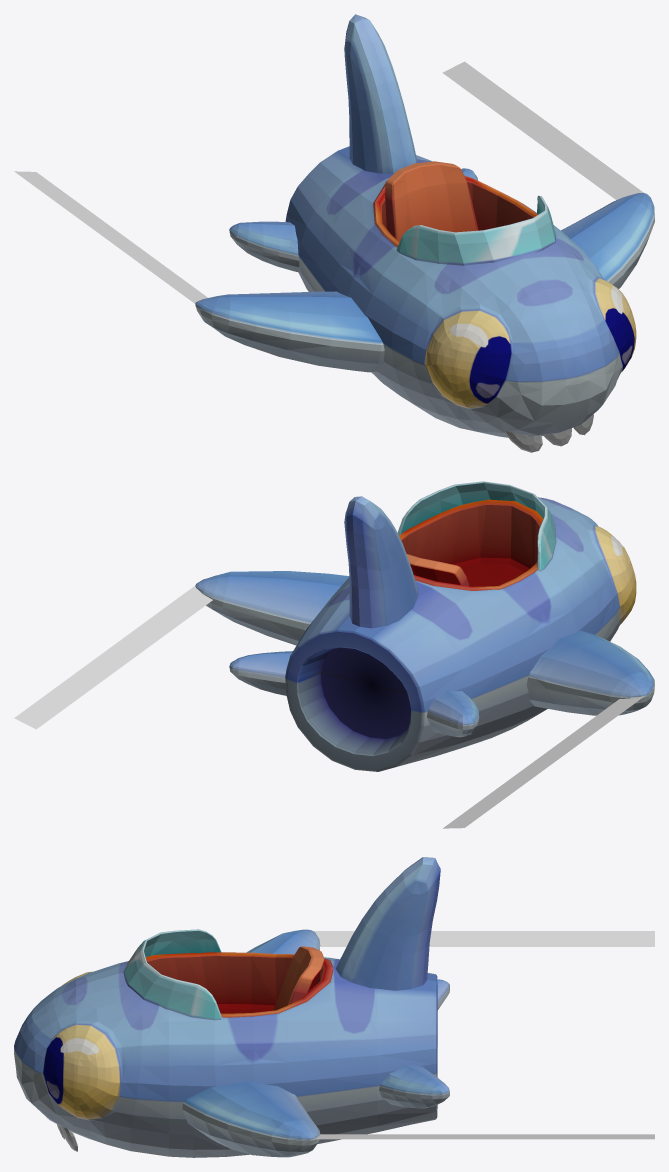
File: SharkHankAirplane.glb
The picture shows the model from 3 angles, top to bottom: view 1: azimuth 30°, elevation 25°; view 2: azimuth 150°, elevation 25°; view 3: azimuth 270°, elevation 25°; orthographic projection. The views are drawn at different scales.
Visible parts, largest first — view 1: airplane, Trail1, Trail2; view 2: airplane, Trail1, Trail2; view 3: airplane, Trail2, Trail1.
Boxes of the visible parts, <box> form: airplane: <box>195,14,654,452</box>; Trail1: <box>442,61,643,199</box>; Trail2: <box>14,171,207,303</box>; airplane: <box>195,481,654,771</box>; Trail1: <box>14,586,212,729</box>; Trail2: <box>443,695,645,828</box>; airplane: <box>14,857,449,1157</box>; Trail2: <box>313,931,654,946</box>; Trail1: <box>312,1134,654,1139</box>.
Bounding box in the file's own units: 0.8386 × 0.5391 × 1.09.
